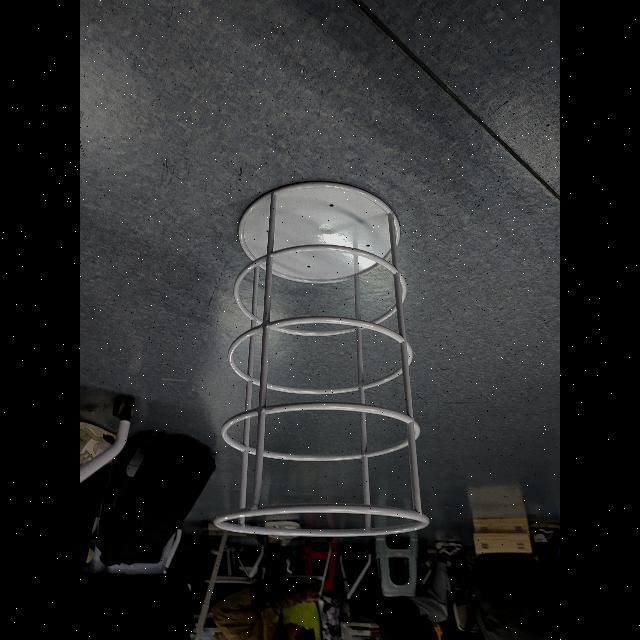S: (208, 175, 434, 550)
